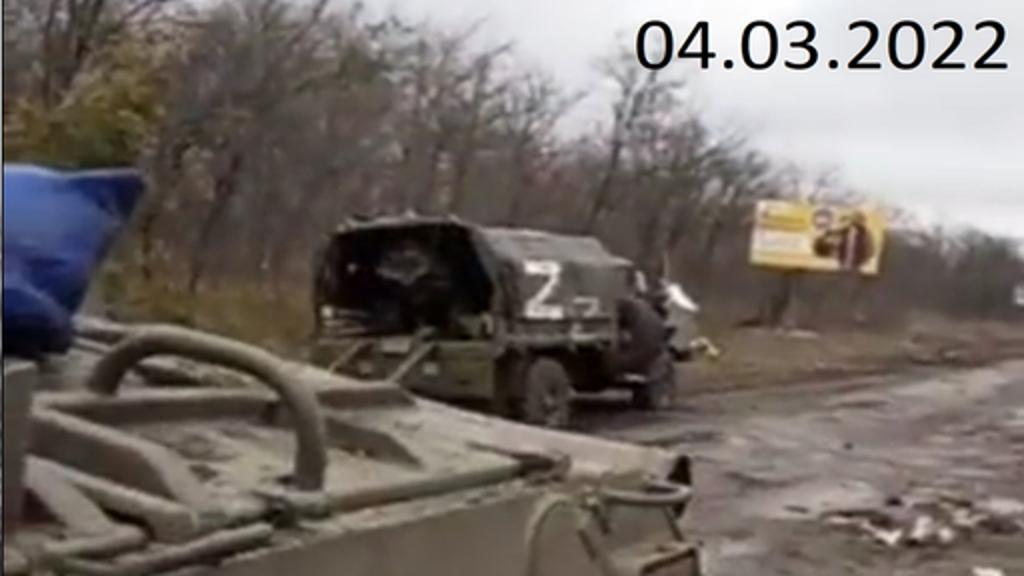TRUCK: (304, 212, 704, 430)
